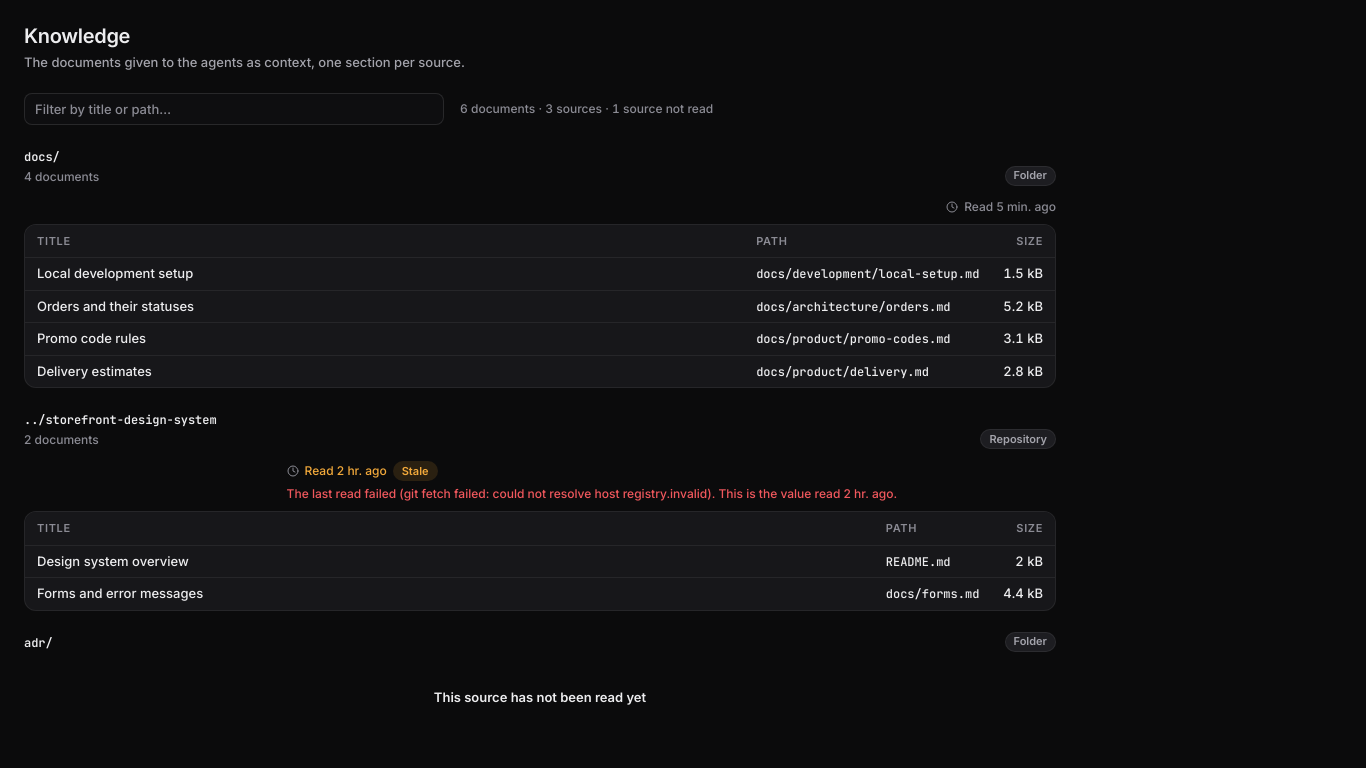
Test: KnowledgeView filter › says so in every source when nothing matches anywhere
Expected: the heading "Knowledge" is shown, 24,24 -> 130,48
Type "zzz" into the search field named "Filter the documents" at (234, 108), box 24,92 -> 444,124
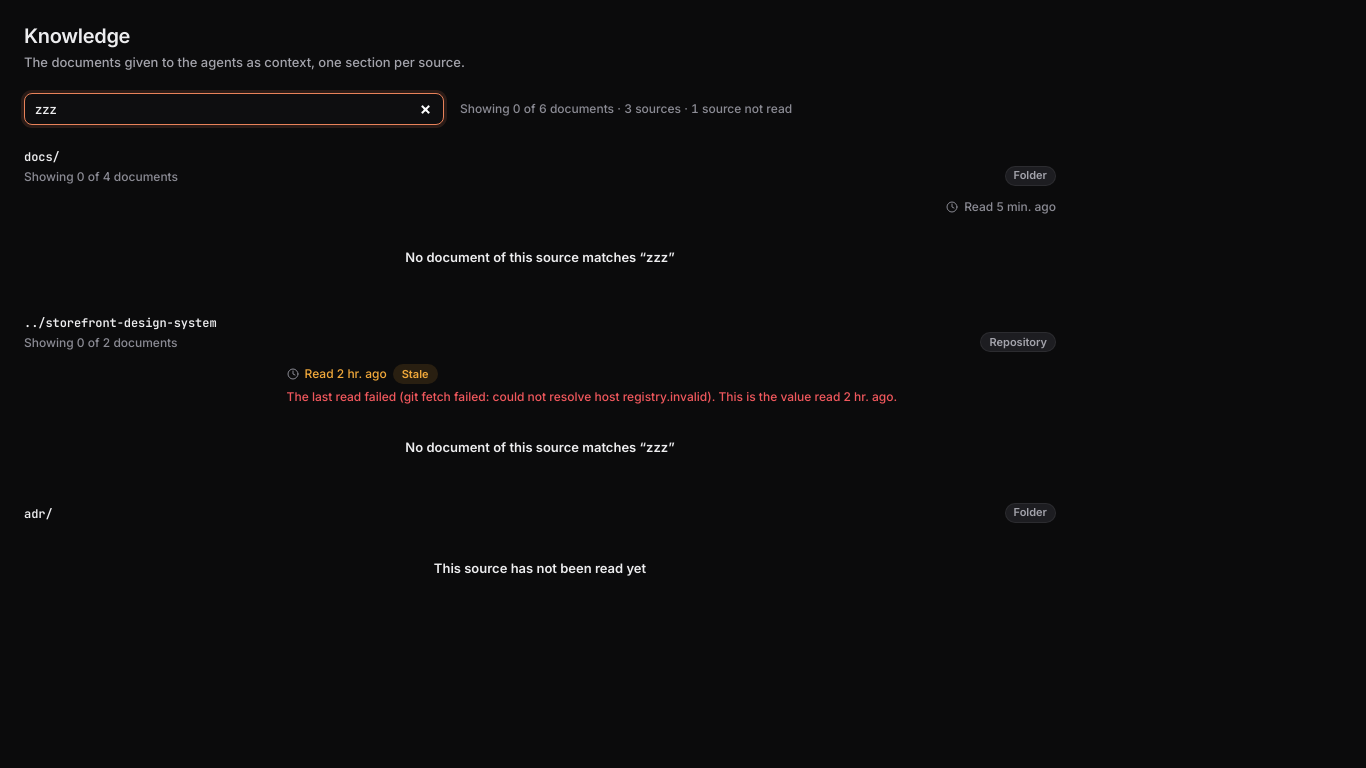
Expected: the text "Showing 0 of 6 documents · 3 sources · 1 source not read" is shown, 460,100 -> 792,118
Expected: the text "No document of this source matches “zzz”" is shown 2 times, 405,248 -> 675,267; 405,438 -> 675,458
